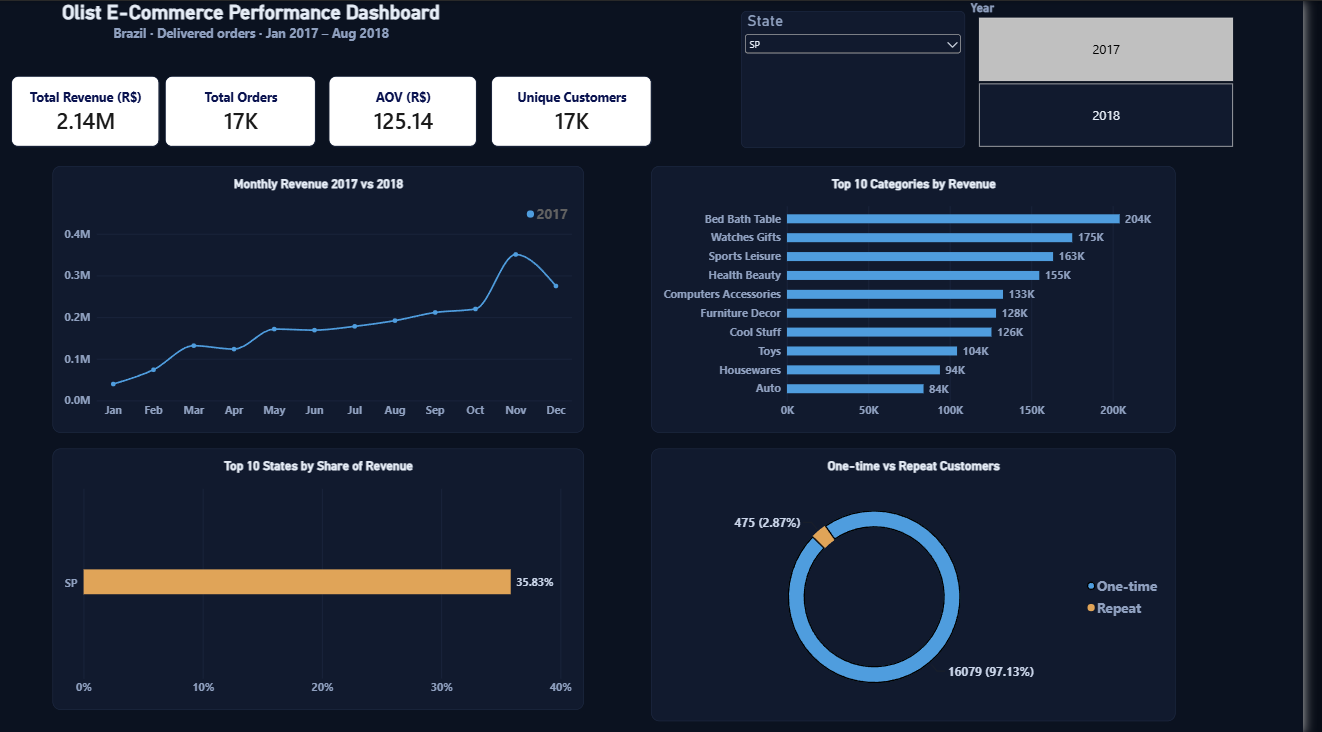

The dashboard page shown, as its layout file describes it:
{"tool":"powerbi","page":{"name":"Business_Overview","canvas":[1920,1080],"ordinal":0},"visuals":[{"type":"lineChart","title":"Monthly Revenue 2017 vs 2018","fields":{"Category":["Dim_Date.Month"],"Series":["Dim_Date.Year"],"Y":["fact_items.Total Revenue"]},"box":[78.2,242.9,782.2,393.1],"z":0},{"type":"clusteredBarChart","title":"Top 10 Categories by Revenue","fields":{"Category":["dim_products.category"],"Y":["fact_items.Total Revenue"]},"box":[959.2,242.9,771.9,393.1],"z":1000},{"type":"clusteredBarChart","title":"Top 10 States by Share of Revenue","fields":{"Category":["dim_customers.customer_state"],"Y":["fact_items.Revenue % of Total"]},"box":[78.2,658.7,782.2,384.9],"z":2000},{"type":"donutChart","title":"One-time vs Repeat Customers","fields":{"Category":["Customer Type.Value"],"Y":["fact_items.Customers by Type"]},"box":[959.2,658.7,771.9,401.4],"z":3000},{"type":"textbox","title":"Olist E-Commerce Performance Dashboard","box":[16.5,0,706,74.1],"z":5000},{"type":"cardVisual","fields":{"Data":["fact_items.Total Revenue"]},"box":[16.5,111.1,218.2,105],"z":6000},{"type":"cardVisual","fields":{"Data":["fact_items.Total Orders"]},"box":[242.9,111.1,222.3,105],"z":7000},{"type":"cardVisual","fields":{"Data":["fact_items.AOV"]},"box":[483.7,111.1,218.2,105],"z":8000},{"type":"cardVisual","fields":{"Data":["fact_items.Unique Customers"]},"box":[722.5,111.1,236.7,105],"z":9000},{"type":"slicer","fields":{"Values":["Dim_Date.Year"]},"box":[1420.2,0,413.7,216.1],"z":10000},{"type":"slicer","fields":{"Values":["dim_customers.customer_state"]},"box":[1090.9,14.4,329.3,201.7],"z":10001}]}

Visuals, with their boxes in screenshot pixels (x1, y1, x2, y2), scaled from the page's 1920x1080 canvas onto the 1322x732 screenshot:
"Monthly Revenue 2017 vs 2018" lineChart: {"left": 54, "top": 165, "right": 592, "bottom": 431}
"Top 10 Categories by Revenue" clusteredBarChart: {"left": 660, "top": 165, "right": 1192, "bottom": 431}
"Top 10 States by Share of Revenue" clusteredBarChart: {"left": 54, "top": 446, "right": 592, "bottom": 707}
"One-time vs Repeat Customers" donutChart: {"left": 660, "top": 446, "right": 1192, "bottom": 719}
"Olist E-Commerce Performance Dashboard" textbox: {"left": 11, "top": 0, "right": 497, "bottom": 50}
cardVisual - fact_items.Total Revenue: {"left": 11, "top": 75, "right": 162, "bottom": 146}
cardVisual - fact_items.Total Orders: {"left": 167, "top": 75, "right": 320, "bottom": 146}
cardVisual - fact_items.AOV: {"left": 333, "top": 75, "right": 483, "bottom": 146}
cardVisual - fact_items.Unique Customers: {"left": 497, "top": 75, "right": 660, "bottom": 146}
slicer - Dim_Date.Year: {"left": 978, "top": 0, "right": 1263, "bottom": 146}
slicer - dim_customers.customer_state: {"left": 751, "top": 10, "right": 978, "bottom": 146}
